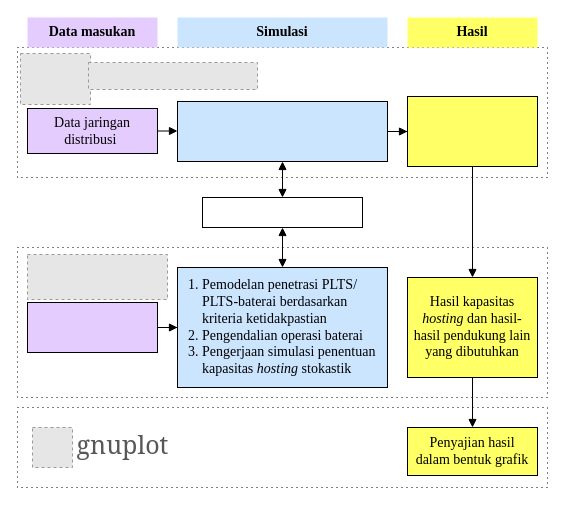
Image size: 565x505. Some labels were removed from this diagram. Grey dashed boxes stand in for pictures. The shapes that lost their labels are listed below. From the top down, each one's box as (x1, y1, x2, y2) in pixels, then its label:
(176, 100, 388, 162): 1. Pemodelan jaringan distribusi 2. Penghitungan aliran daya
(406, 96, 538, 166): Hasil perhitungan aliran daya untuk setiap iterasi
(202, 196, 362, 228): COM server
(26, 302, 158, 352): Data penetrasi PLTS/PLTS-baterai
